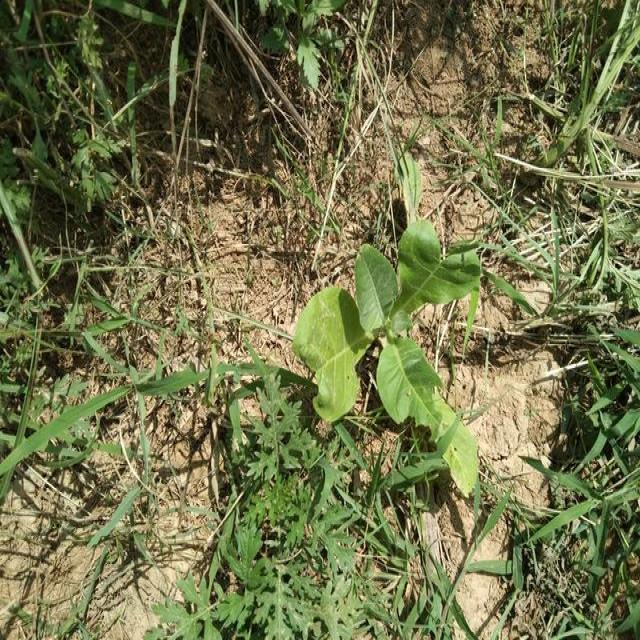crop: (301, 226, 475, 507)
